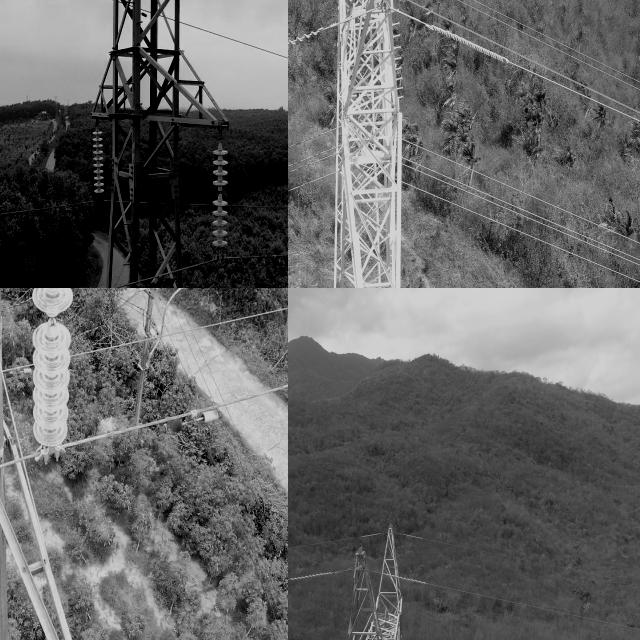杆塔: (79, 0, 239, 288), (333, 0, 402, 288), (327, 508, 420, 640)
正常电缆: (0, 371, 288, 482), (0, 300, 288, 386)
正常绝缘子: (26, 288, 80, 469), (205, 133, 237, 261), (90, 113, 109, 207)
绝缘子破损: (45, 315, 58, 326), (216, 187, 224, 197)
